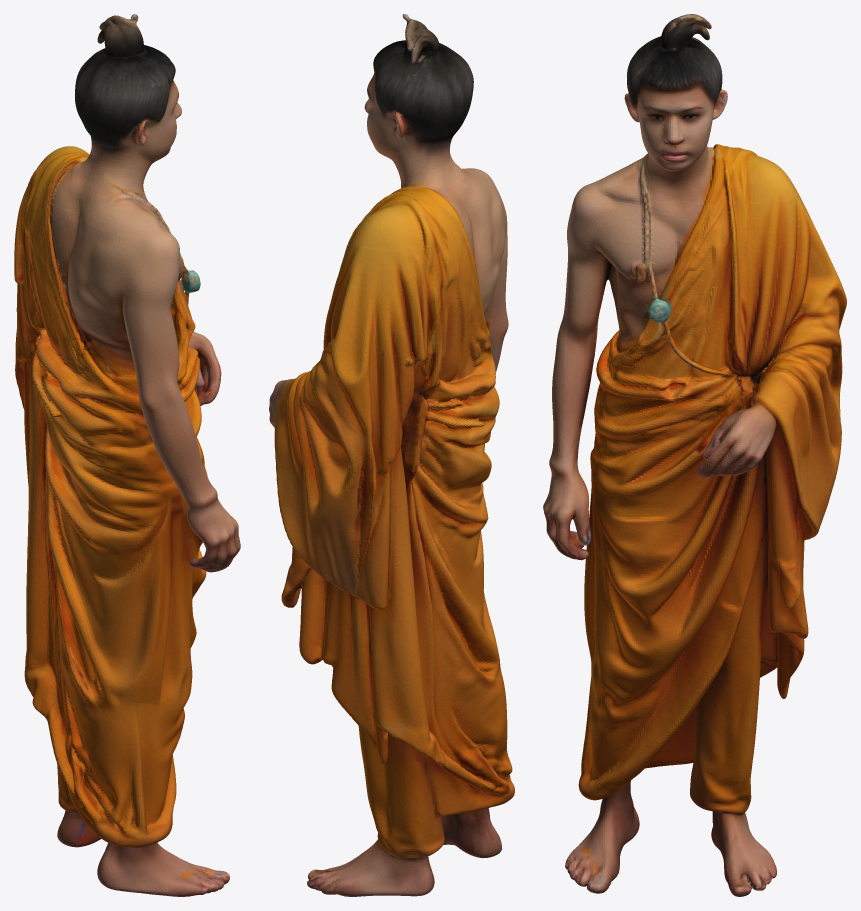
File: modelo14.glb
The picture shows the model from 3 angles, left to right: view 1: azimuth 30°, elevation 25°; view 2: azimuth 150°, elevation 25°; view 3: azimuth 270°, elevation 25°; orthographic projection.
Size of the model in its own units: 0.2274 by 1 by 0.3224.
Materials: 1 (1 with a texture image).
